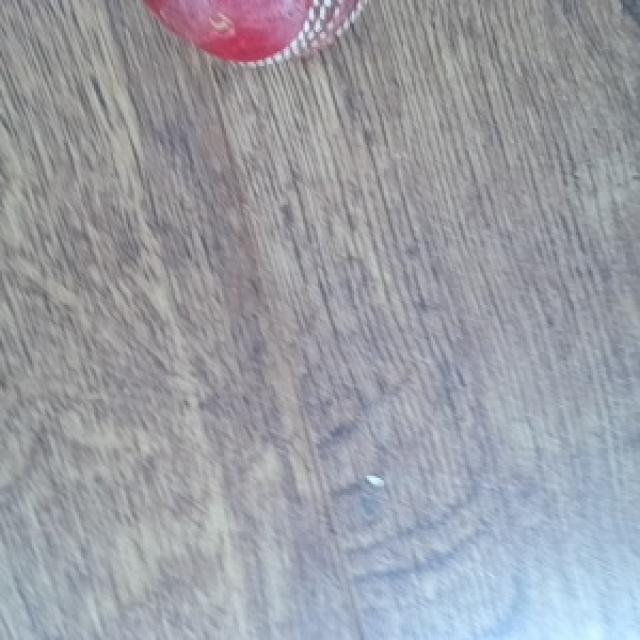ball: (139, 0, 369, 66)
